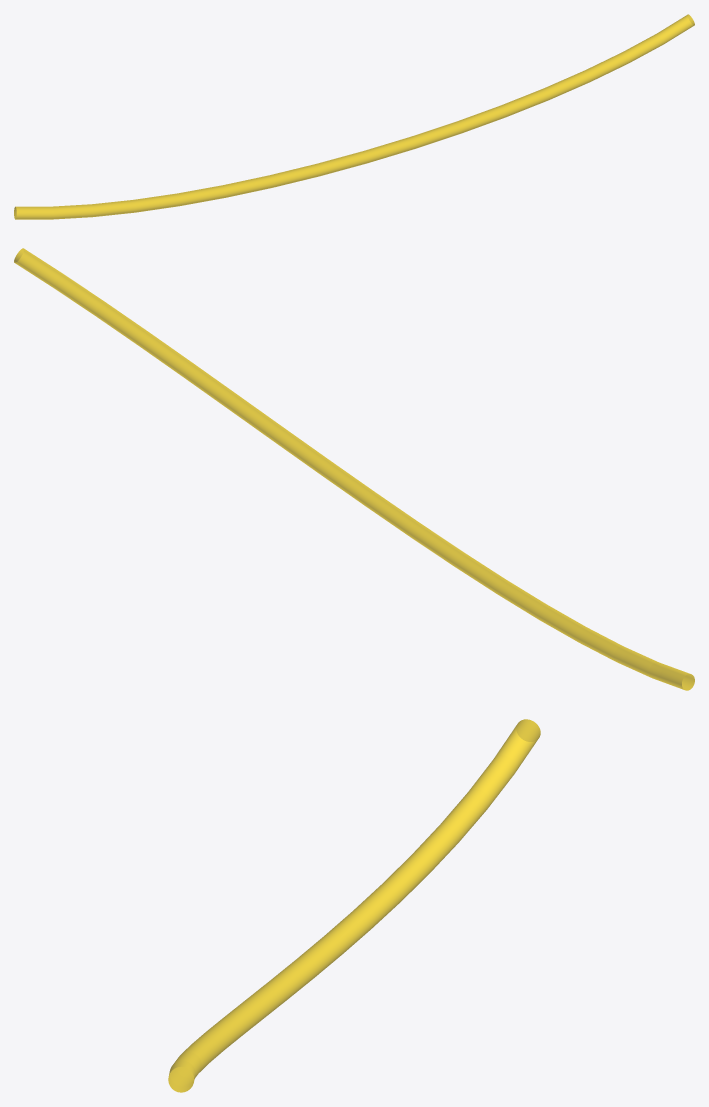
File: Event_17758602_track_76.fbx
3 views of the same model, one above another, from view 1: azimuth 30°, elevation 25°; view 2: azimuth 150°, elevation 25°; view 3: azimuth 270°, elevation 25° (orthographic). The views are drawn at different scales.
Visible parts, largest first — view 1: Model; view 2: Model; view 3: Model.
Part boxes in pixels (x1,y1,x2,y2): Model: (14, 14, 694, 219); Model: (14, 248, 694, 690); Model: (168, 719, 540, 1092).
Bounding box in the file's own units: 2.11 × 0.4356 × 0.5731.
